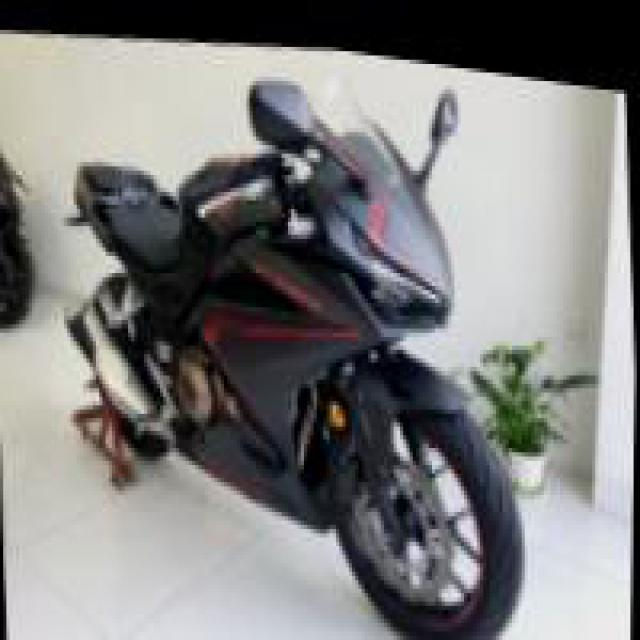CBR500R: (54, 30, 541, 636)
